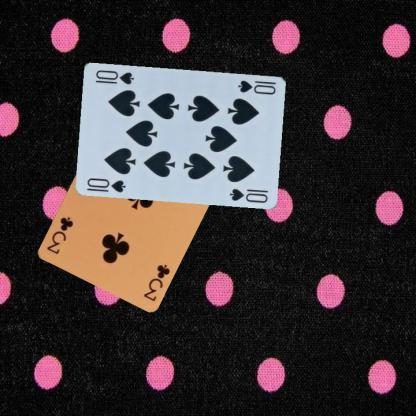10s: (85, 175, 127, 194), (236, 77, 277, 95)
3c: (140, 261, 171, 302)
